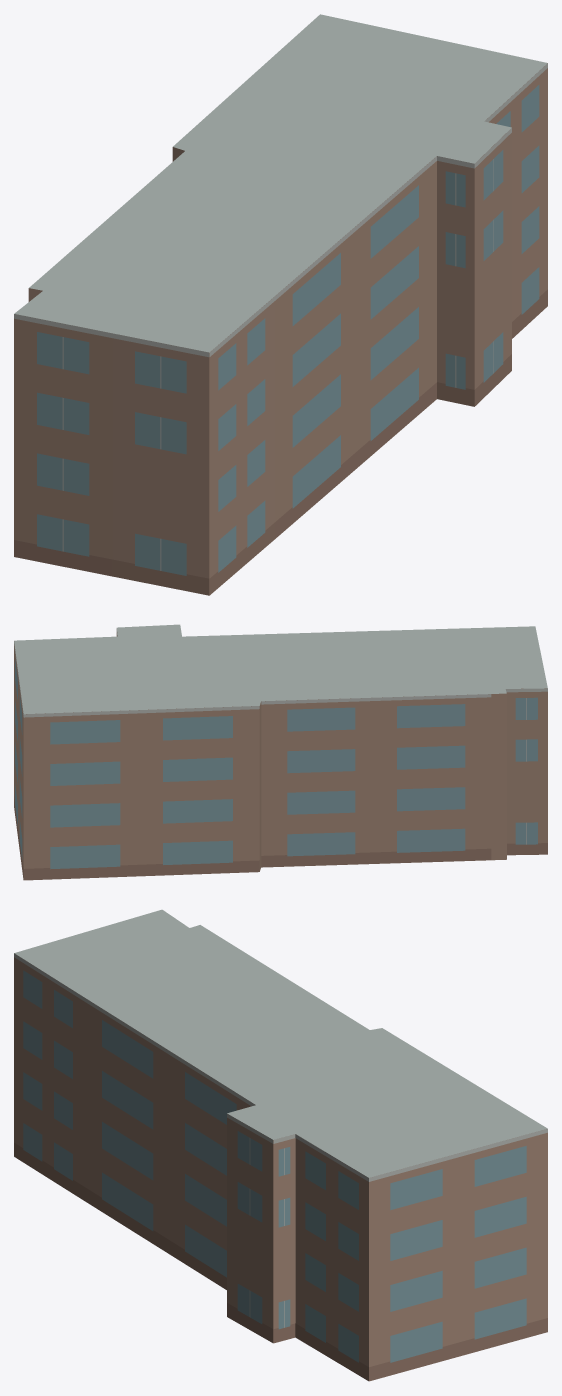
File: survey-upis-33034823.glb
3 views of the same model, one above another, from view 1: azimuth 30°, elevation 25°; view 2: azimuth 150°, elevation 25°; view 3: azimuth 270°, elevation 25° (orthographic). The views are drawn at different scales.
Visible parts, largest first — view 1: survey-upis-33034823.tmp; view 2: survey-upis-33034823.tmp; view 3: survey-upis-33034823.tmp.
Boxes of the visible parts, x1,y1,x2,y2 form: survey-upis-33034823.tmp: [14, 14, 547, 595]; survey-upis-33034823.tmp: [14, 624, 547, 880]; survey-upis-33034823.tmp: [14, 909, 547, 1381].
Bounding box in the file's own units: 34.67 × 12.25 × 29.13.
